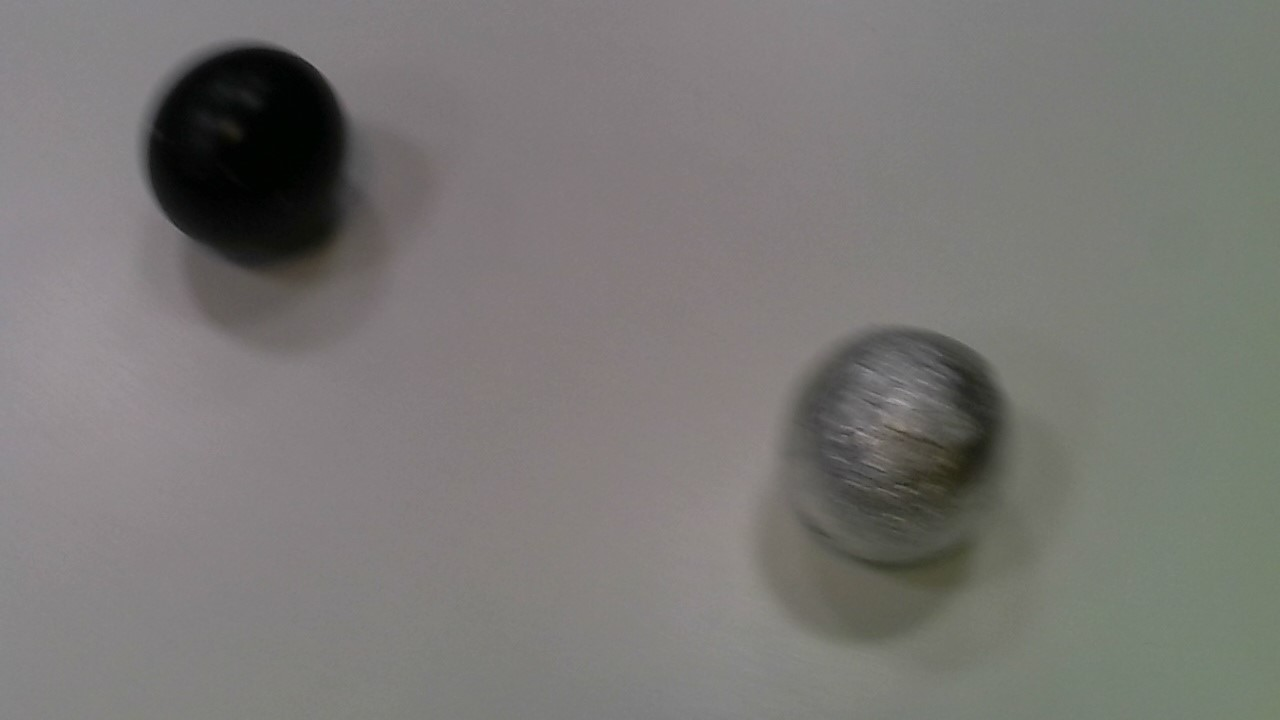black_ball: (146, 39, 354, 256)
silver_ball: (771, 323, 1021, 578)
